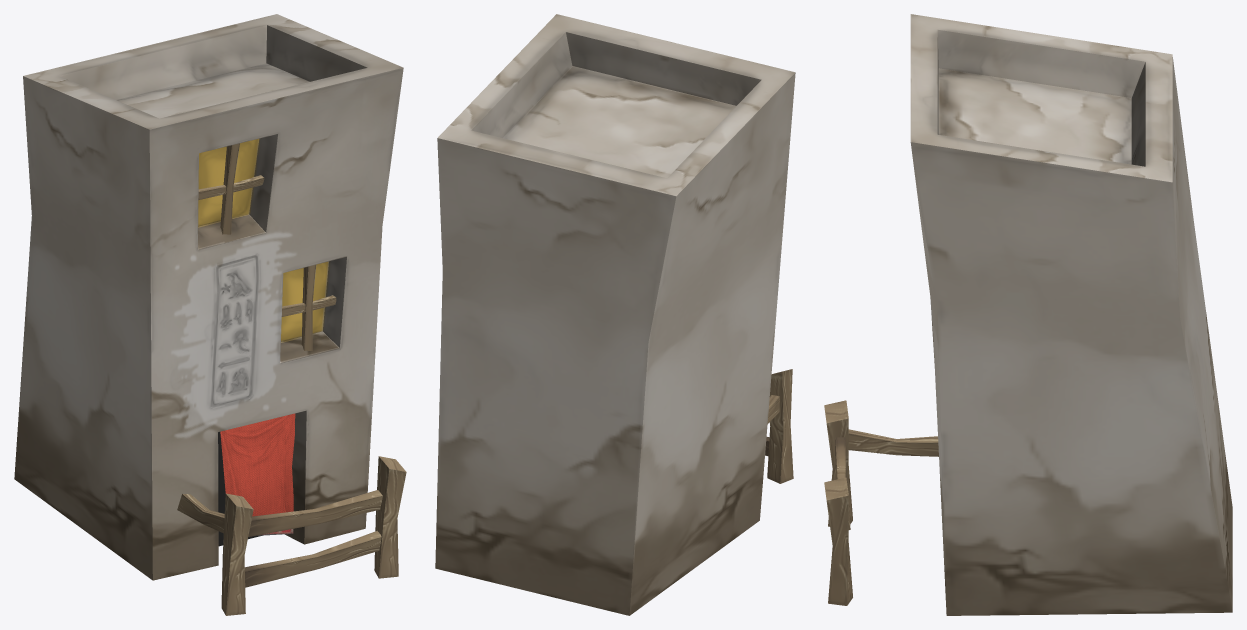
File: Egypt_Village_Buildings_05.FBX
3 renders of one model, left to right at view 1: azimuth 30°, elevation 25°; view 2: azimuth 150°, elevation 25°; view 3: azimuth 270°, elevation 25°, orthographic. The views are drawn at different scales.
Visible parts, largest first — view 1: Egypt_Village_Buildings_05; view 2: Egypt_Village_Buildings_05; view 3: Egypt_Village_Buildings_05.
Boxes of the visible parts, box(x1,y1,x2,y2) form: Egypt_Village_Buildings_05: box(14, 14, 406, 615); Egypt_Village_Buildings_05: box(435, 14, 795, 615); Egypt_Village_Buildings_05: box(824, 14, 1232, 615).
Bounding box in the file's own units: 339 × 599 × 457.
